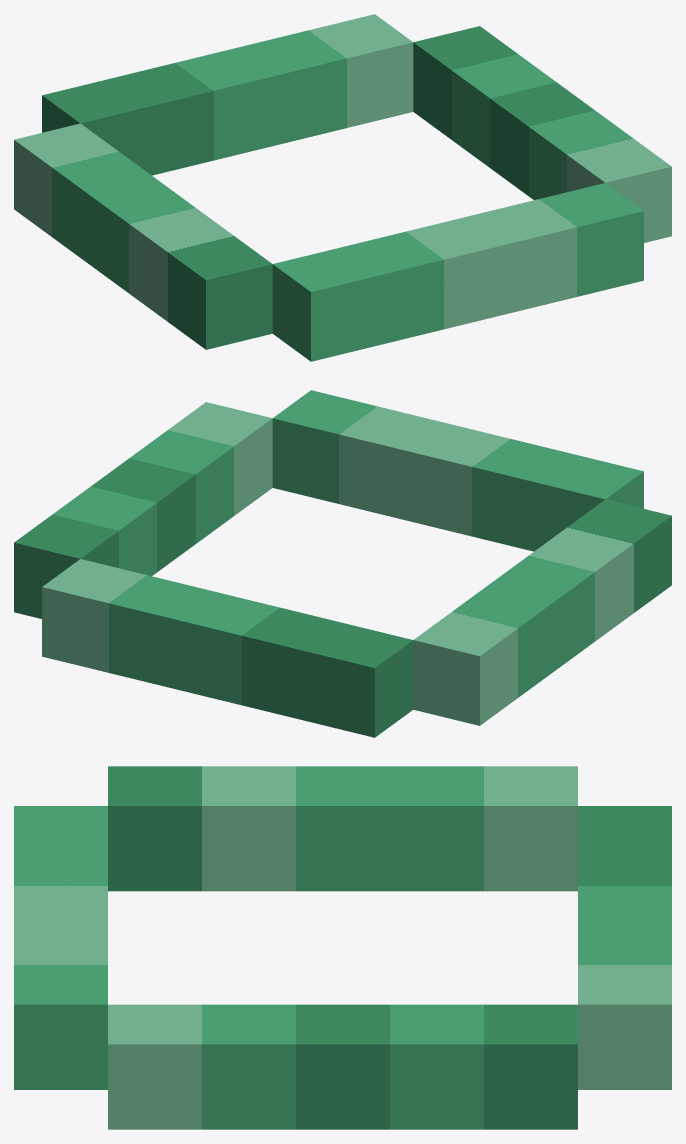
The model's file is vine_circle3.fbx.
3 renders of one model, top to bottom at view 1: azimuth 30°, elevation 25°; view 2: azimuth 150°, elevation 25°; view 3: azimuth 270°, elevation 25°, orthographic. The views are drawn at different scales.
Parts seen in each view (by area): view 1: vinecircle2_1; view 2: vinecircle2_1; view 3: vinecircle2_1.
Boxes of the visible parts, x1,y1,x2,y2 form: vinecircle2_1: [14, 14, 671, 361]; vinecircle2_1: [14, 390, 671, 737]; vinecircle2_1: [14, 766, 671, 1129].
Bounding box in the file's own units: 7 × 1 × 7.
1 material, 1 textured.
